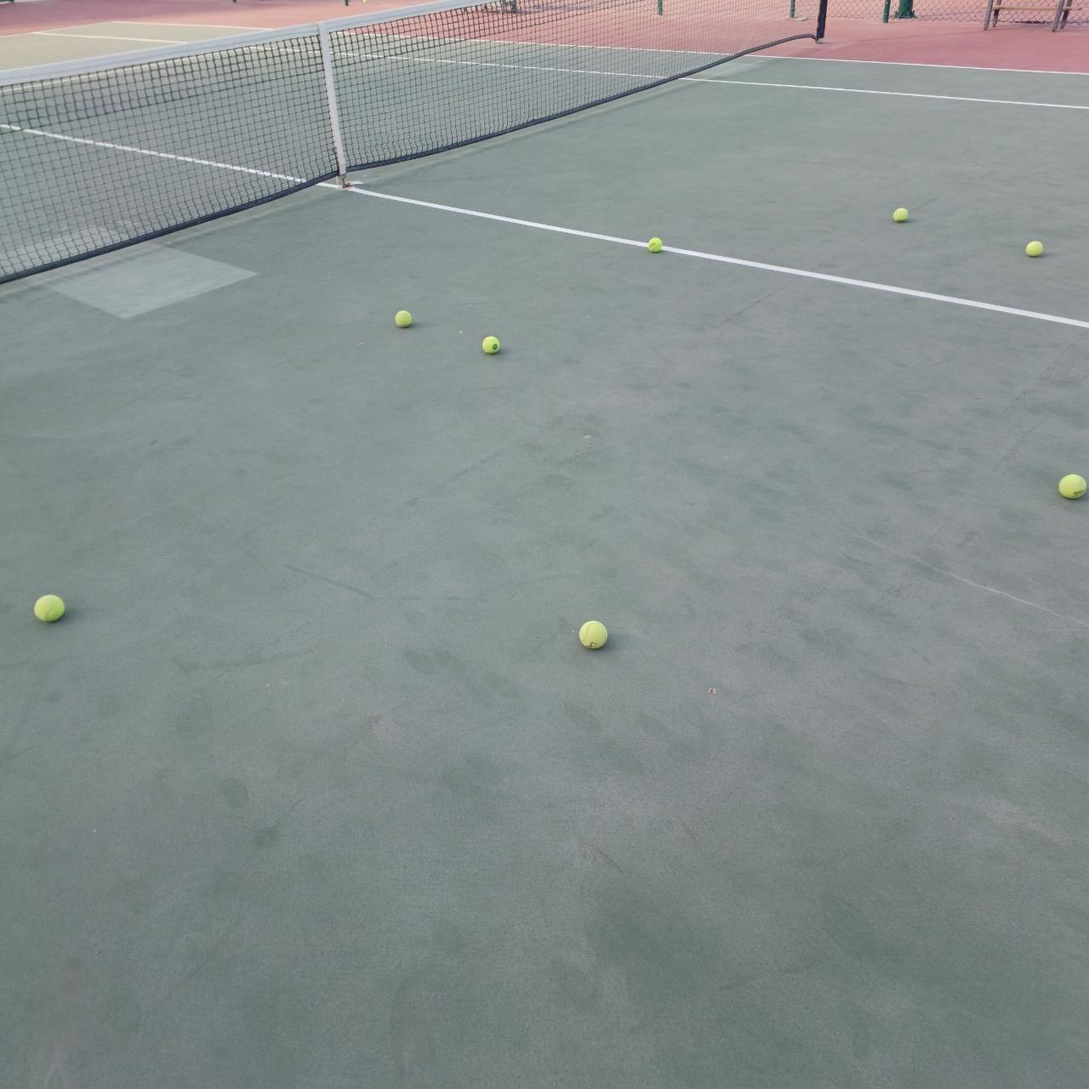tennis-ball: (31, 591, 66, 623), (576, 618, 608, 649), (1057, 471, 1086, 499), (1023, 237, 1043, 256), (480, 334, 499, 354), (393, 308, 412, 328), (892, 205, 909, 222), (647, 235, 662, 253)
